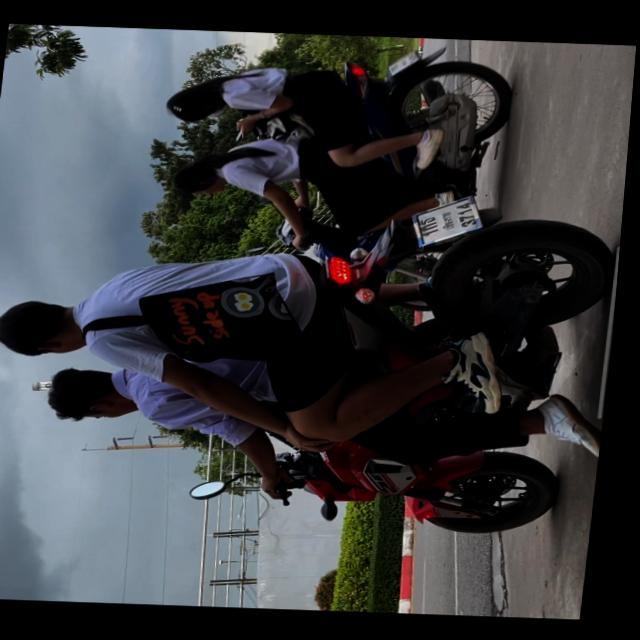seatbelt: (48, 362, 152, 426), (0, 296, 99, 358), (166, 83, 231, 123), (174, 160, 233, 197)
